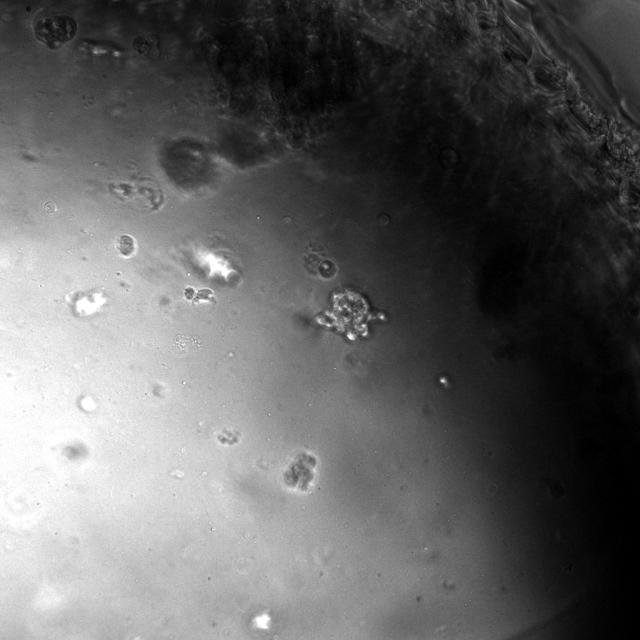organoid: (314, 287, 388, 342), (34, 15, 77, 49), (283, 452, 319, 492), (184, 286, 218, 305), (116, 234, 136, 257), (317, 259, 337, 279)
